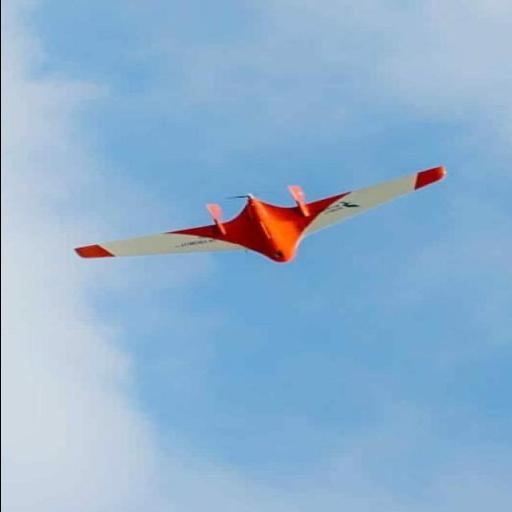uav: (60, 162, 458, 269)
